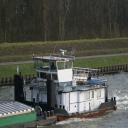tugboat: (14, 49, 119, 125)
